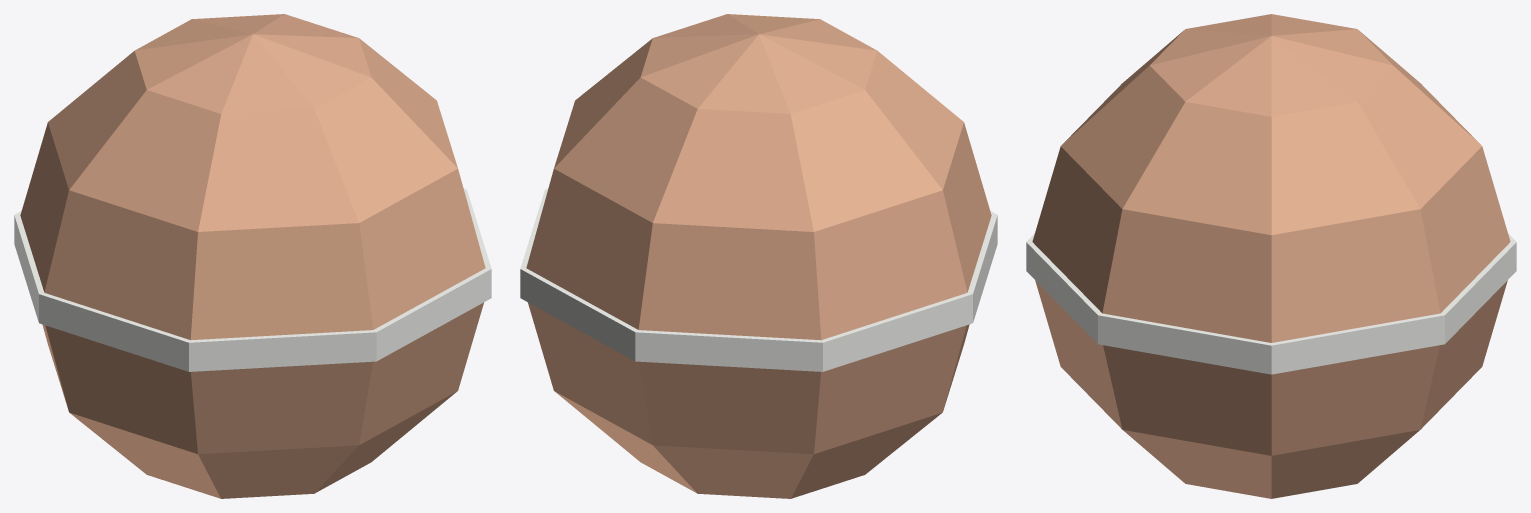
The model's file is tennis-club-and-courts-tennis-ball-practice-9f7b8863__33619.glb.
3 renders of one model, left to right at view 1: azimuth 30°, elevation 25°; view 2: azimuth 150°, elevation 25°; view 3: azimuth 270°, elevation 25°, orthographic.
Visible parts, largest first — view 1: tennis-ball-practice; view 2: tennis-ball-practice; view 3: tennis-ball-practice.
Boxes of the visible parts, x1,y1,x2,y2 form: tennis-ball-practice: (14, 14, 491, 498); tennis-ball-practice: (520, 14, 997, 498); tennis-ball-practice: (1026, 14, 1516, 498).
Size of the model in its own units: 0.0675 by 0.067 by 0.0675.
